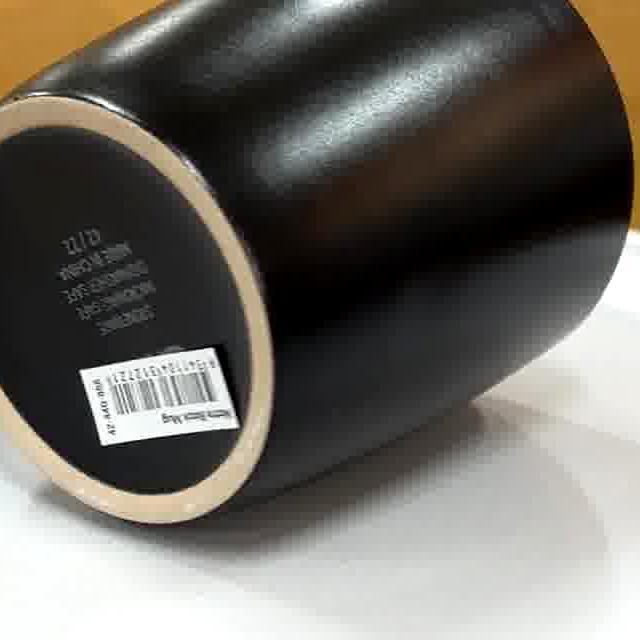cup: (0, 0, 634, 533)
